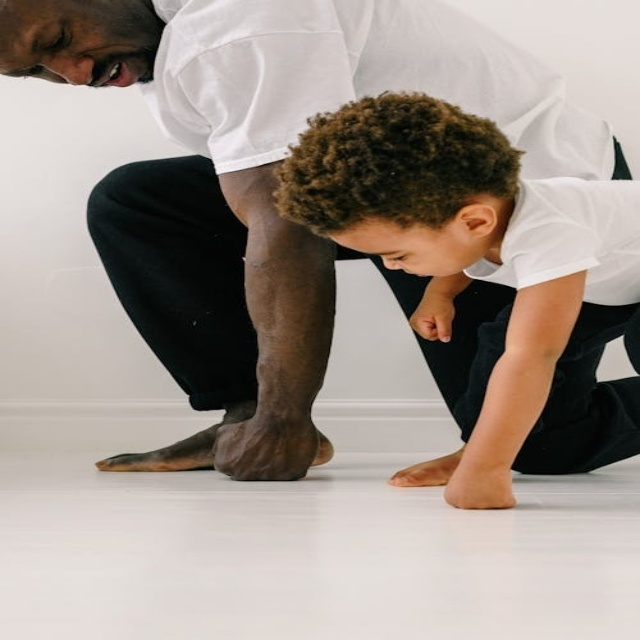Sin_gafas: (3, 9, 78, 85), (349, 236, 430, 266)
Sin_guantes: (204, 409, 325, 485), (399, 288, 462, 348)
Sin_mascara: (93, 40, 145, 89), (401, 259, 452, 280)
